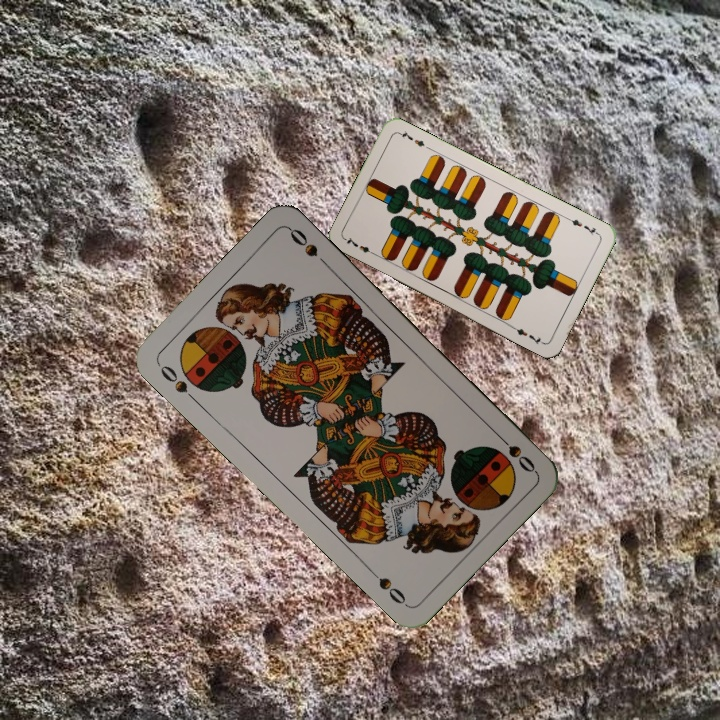E7: (342, 233, 379, 259), (564, 213, 601, 238)
SO: (491, 428, 538, 476), (154, 360, 201, 406)
